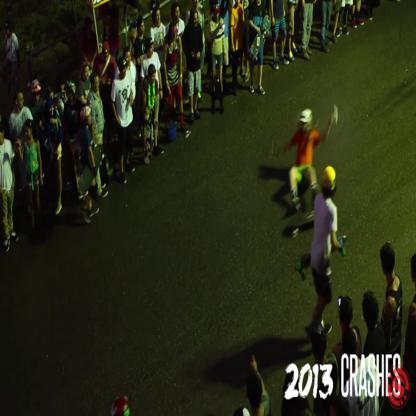Fall_Down: (272, 104, 340, 220)
